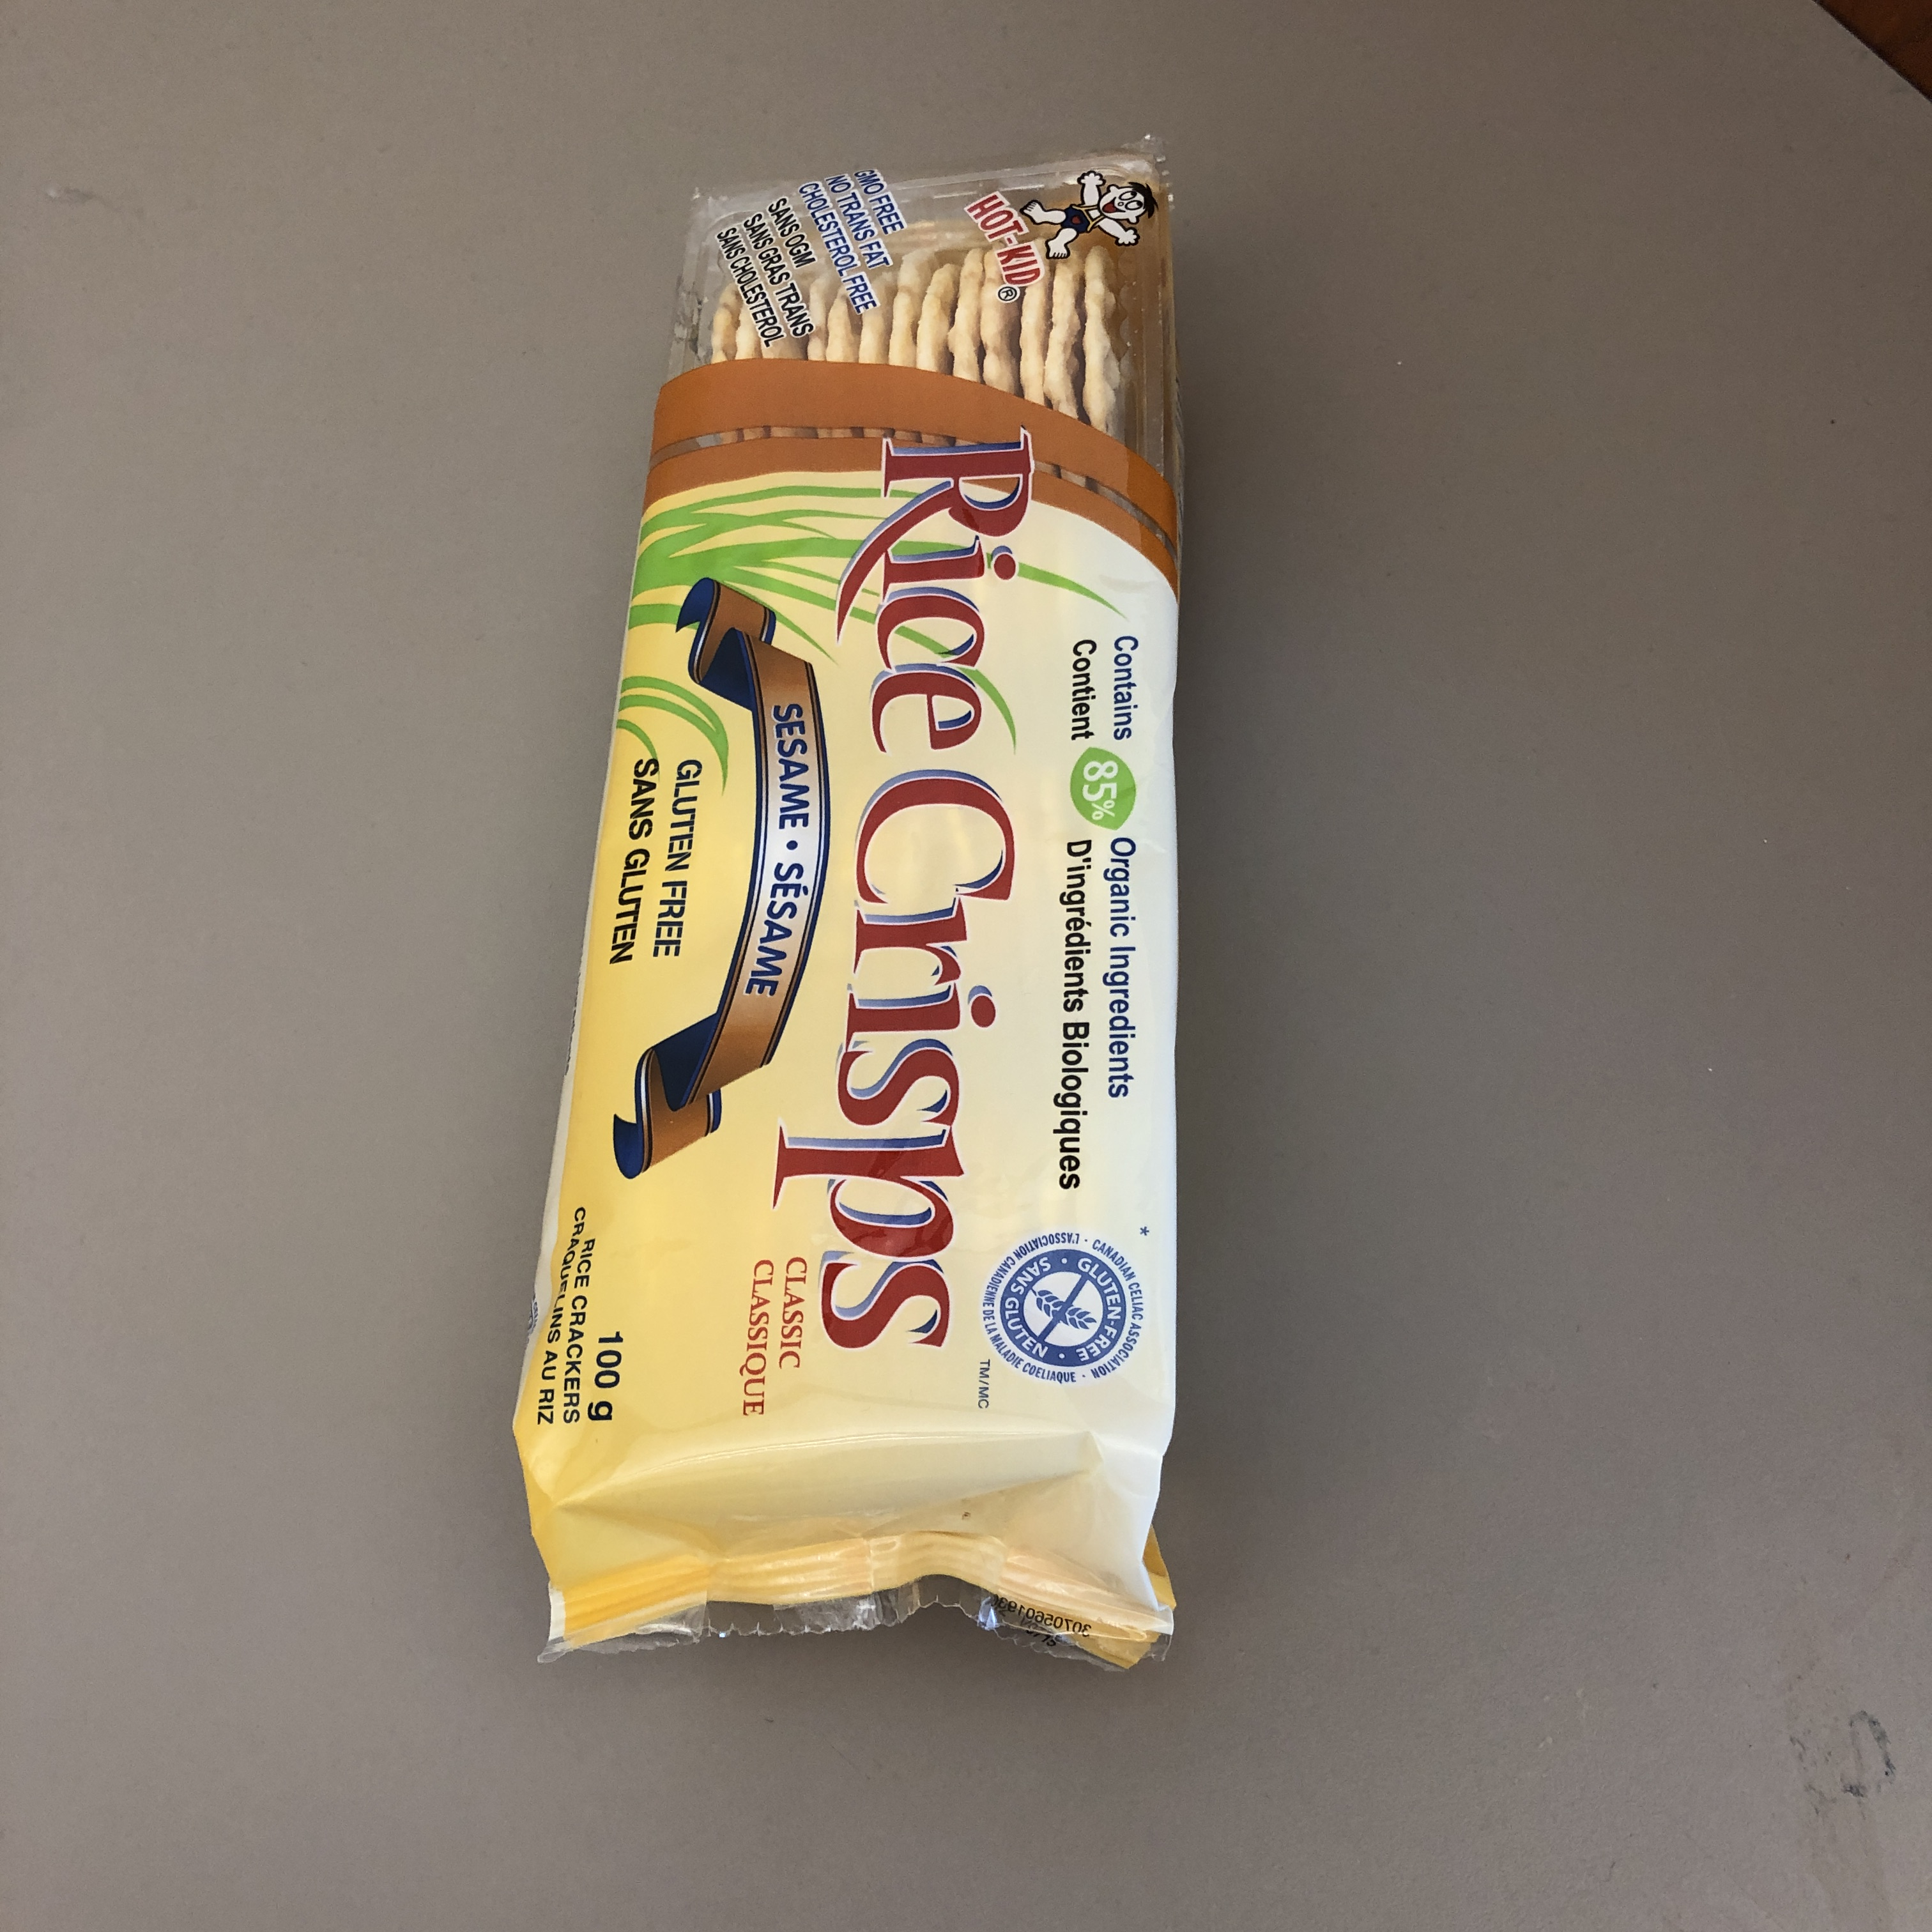hot_kid_rice_crisps_sesame: (160, 754, 1660, 1376)
